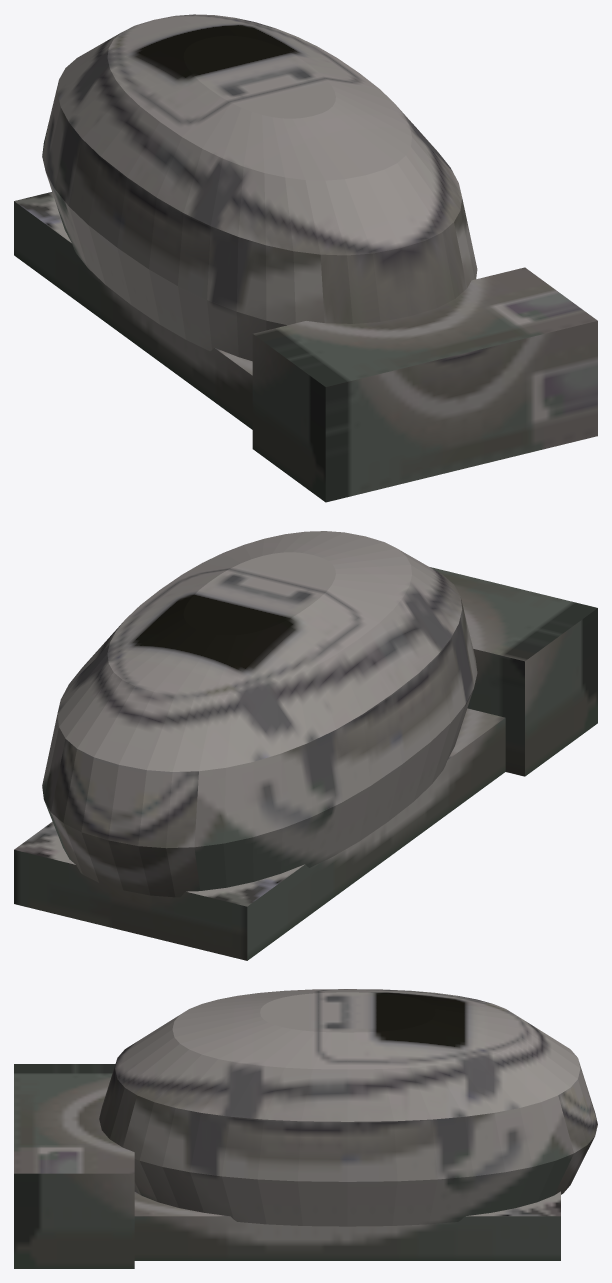
Rendered from Building_AncientCryptosleepPod.obj.
3 views of the same model, one above another, from view 1: azimuth 30°, elevation 25°; view 2: azimuth 150°, elevation 25°; view 3: azimuth 270°, elevation 25° (orthographic). The views are drawn at different scales.
Visible parts, largest first — view 1: Body; view 2: Body; view 3: Body.
Boxes of the visible parts, x1,y1,x2,y2 form: Body: (14, 14, 597, 502); Body: (14, 531, 597, 960); Body: (14, 989, 597, 1268).
Bounding box in the file's own units: 0.88 × 0.72 × 1.89.
1 material, 1 textured.
